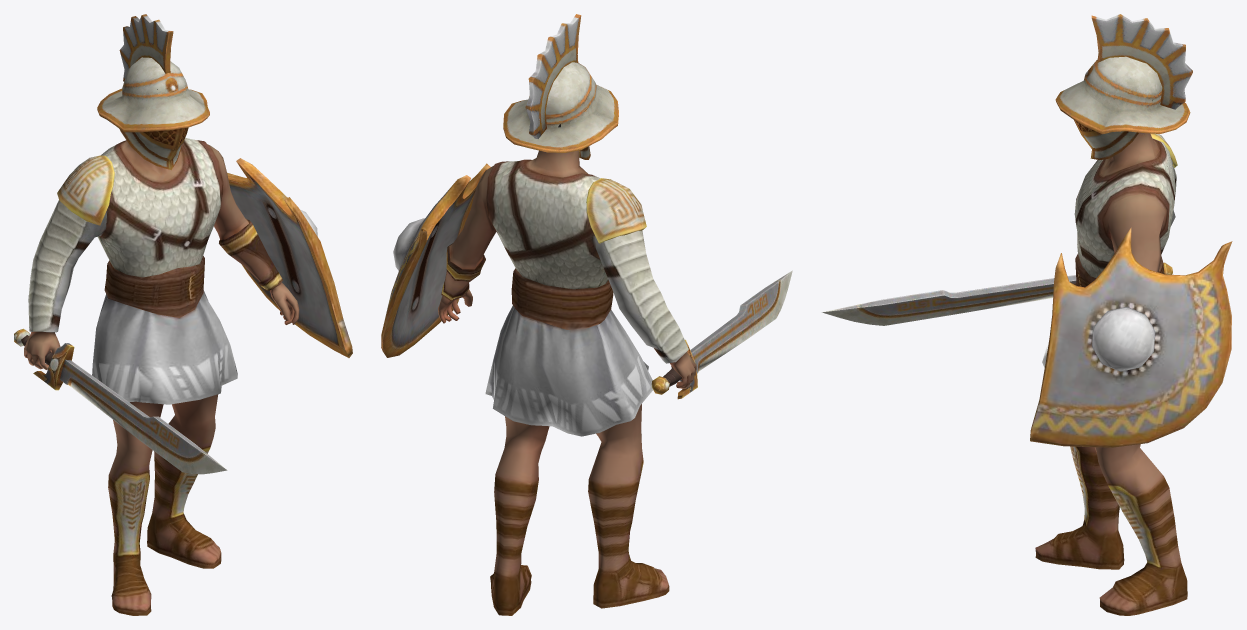
The model's file is 111-murmillohero.glb.
The picture shows the model from 3 angles, left to right: view 1: azimuth 30°, elevation 25°; view 2: azimuth 150°, elevation 25°; view 3: azimuth 270°, elevation 25°; orthographic projection. The views are drawn at different scales.
Size of the model in its own units: 1.22 by 2.27 by 1.48.
Materials: 4 (4 with a texture image).
